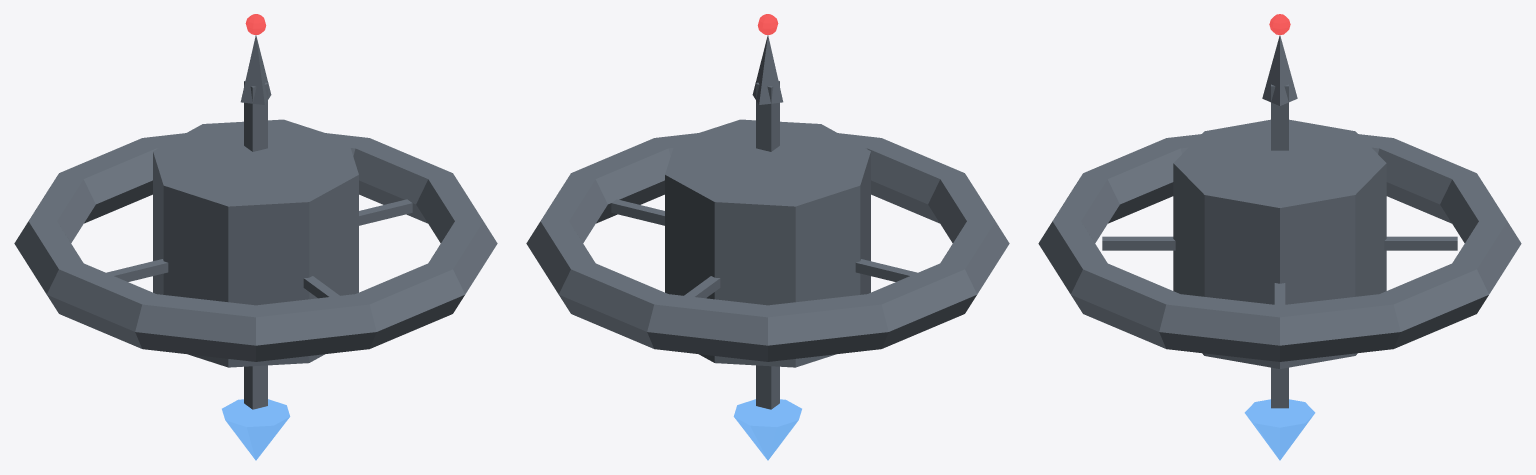
The model's file is space_station.glb.
The picture shows the model from 3 angles, left to right: view 1: azimuth 30°, elevation 25°; view 2: azimuth 150°, elevation 25°; view 3: azimuth 270°, elevation 25°; orthographic projection.
Parts seen in each view (by area): view 1: Station_HabRing, Station_CentralHub, Station_ThrusterGlow, Station_DockTop, Station_Antenna, Station_DockBottom, Station_Strut_1, Station_Strut_3; view 2: Station_HabRing, Station_CentralHub, Station_ThrusterGlow, Station_DockTop, Station_Antenna, Station_DockBottom, Station_Strut_1, Station_Strut_3; view 3: Station_HabRing, Station_CentralHub, Station_ThrusterGlow, Station_Antenna, Station_Strut_2, Station_Strut_4, Station_DockTop, Station_DockBottom.
Boxes of the visible parts, box(x1,y1,x2,y2) form: Station_HabRing: box(14, 133, 497, 361); Station_CentralHub: box(153, 119, 358, 367); Station_ThrusterGlow: box(222, 399, 290, 460); Station_DockTop: box(244, 81, 267, 151); Station_Antenna: box(240, 35, 271, 104); Station_DockBottom: box(244, 365, 267, 409); Station_Strut_1: box(359, 199, 412, 225); Station_Strut_3: box(106, 259, 168, 281); Station_HabRing: box(526, 133, 1009, 361); Station_CentralHub: box(665, 119, 870, 367); Station_ThrusterGlow: box(733, 399, 801, 460); Station_DockTop: box(756, 81, 779, 151); Station_Antenna: box(752, 35, 783, 104); Station_DockBottom: box(756, 365, 779, 409); Station_Strut_1: box(611, 199, 664, 225); Station_Strut_3: box(855, 259, 917, 281); Station_HabRing: box(1038, 134, 1521, 361); Station_CentralHub: box(1173, 119, 1386, 368); Station_ThrusterGlow: box(1244, 399, 1315, 460); Station_Antenna: box(1262, 35, 1297, 105); Station_Strut_2: box(1384, 236, 1457, 250); Station_Strut_4: box(1102, 236, 1175, 250); Station_DockTop: box(1271, 84, 1288, 150); Station_DockBottom: box(1271, 367, 1288, 408).
Bounding box in the file's own units: 1.36 × 1.38 × 1.36.
